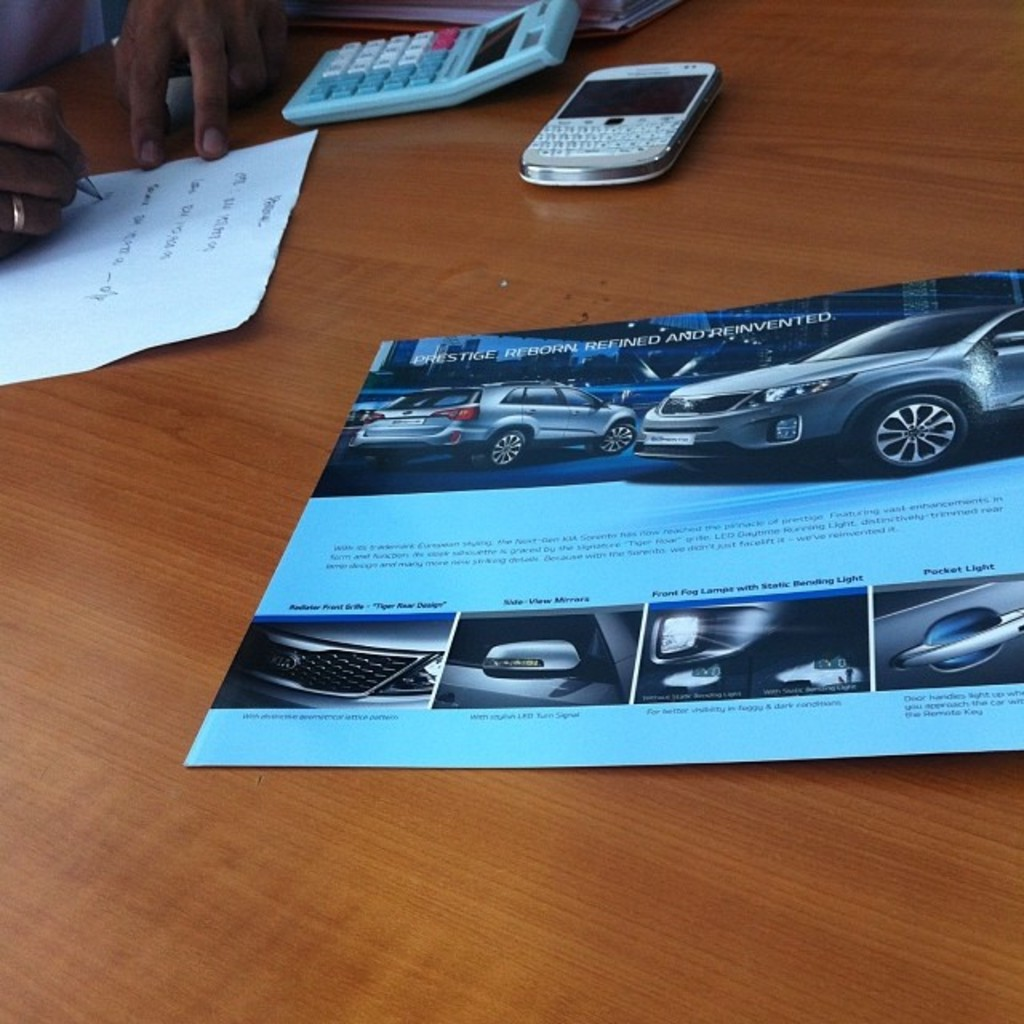mobile phone: (505, 41, 732, 179)
